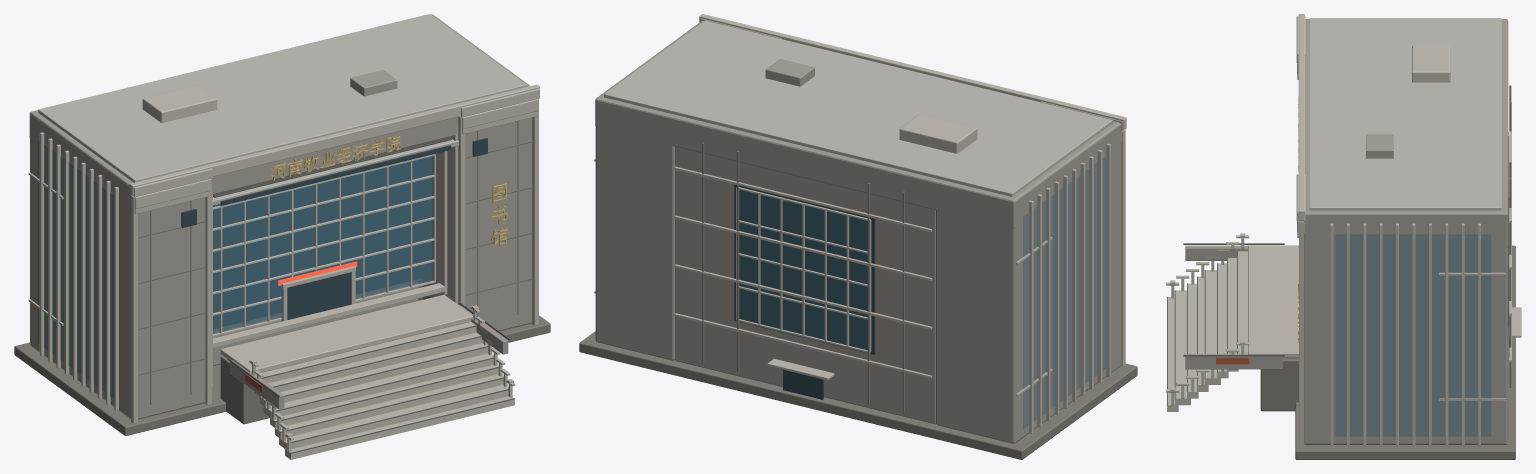
Rendered from library-longzihu.glb.
The picture shows the model from 3 angles, left to right: view 1: azimuth 30°, elevation 25°; view 2: azimuth 150°, elevation 25°; view 3: azimuth 270°, elevation 25°; orthographic projection. The views are drawn at different scales.
Visible parts, largest first — view 1: roof, tower--1, curtain-glass, recess-shadow, tower-1, side-glass--1, entrance-platform, top-lintel, podium, roof-fascia, recess-cheek-1, stair-6 (+42 smaller); view 2: roof, tower--1, rear-block, tower-1, rear-glass-back, rear-glass, top-lintel, side-glass--1, podium, roof-fascia, roof-unit, side-fin--1-1 (+20 smaller); view 3: tower-1, roof, side-glass-1, entrance-platform, podium, top-lintel, entrance-base, roof-unit, roof-fascia, tower-corner-1-3.3, stair-6, stair-cheek-1 (+21 smaller).
Boxes of the visible parts, x1=… form: roof: x1=38, y1=14, x2=526, y2=182; tower--1: x1=30, y1=110, x2=205, y2=419; curtain-glass: x1=213, y1=156, x2=432, y2=333; recess-shadow: x1=213, y1=158, x2=427, y2=328; tower-1: x1=423, y1=14, x2=532, y2=331; side-glass--1: x1=37, y1=139, x2=114, y2=398; entrance-platform: x1=220, y1=294, x2=473, y2=372; top-lintel: x1=29, y1=14, x2=529, y2=194; podium: x1=14, y1=315, x2=550, y2=435; roof-fascia: x1=129, y1=84, x2=539, y2=195; recess-cheek-1: x1=429, y1=123, x2=458, y2=304; stair-6: x1=279, y1=384, x2=508, y2=449; roof: x1=604, y1=20, x2=1112, y2=196; tower--1: x1=936, y1=121, x2=1121, y2=443; rear-block: x1=675, y1=121, x2=935, y2=424; tower-1: x1=595, y1=24, x2=699, y2=360; rear-glass-back: x1=734, y1=184, x2=875, y2=354; rear-glass: x1=739, y1=190, x2=867, y2=350; top-lintel: x1=595, y1=21, x2=1121, y2=228; side-glass--1: x1=1023, y1=156, x2=1105, y2=428; podium: x1=579, y1=331, x2=1137, y2=459; roof-fascia: x1=699, y1=14, x2=1126, y2=130; roof-unit: x1=899, y1=114, x2=977, y2=153; side-fin--1-1: x1=1097, y1=150, x2=1102, y2=383; tower-1: x1=1304, y1=177, x2=1508, y2=444; roof: x1=1309, y1=18, x2=1501, y2=210; side-glass-1: x1=1335, y1=234, x2=1491, y2=436; entrance-platform: x1=1248, y1=245, x2=1298, y2=358; podium: x1=1295, y1=245, x2=1515, y2=459; top-lintel: x1=1304, y1=19, x2=1508, y2=239; entrance-base: x1=1260, y1=358, x2=1298, y2=411; roof-unit: x1=1412, y1=45, x2=1450, y2=82; roof-fascia: x1=1298, y1=14, x2=1304, y2=220; tower-corner-1-3.3: x1=1299, y1=221, x2=1304, y2=446; stair-6: x1=1175, y1=290, x2=1190, y2=405; stair-cheek-1: x1=1185, y1=354, x2=1282, y2=369.
Bounding box in the file's own units: 38 × 22.04 × 27.7.
